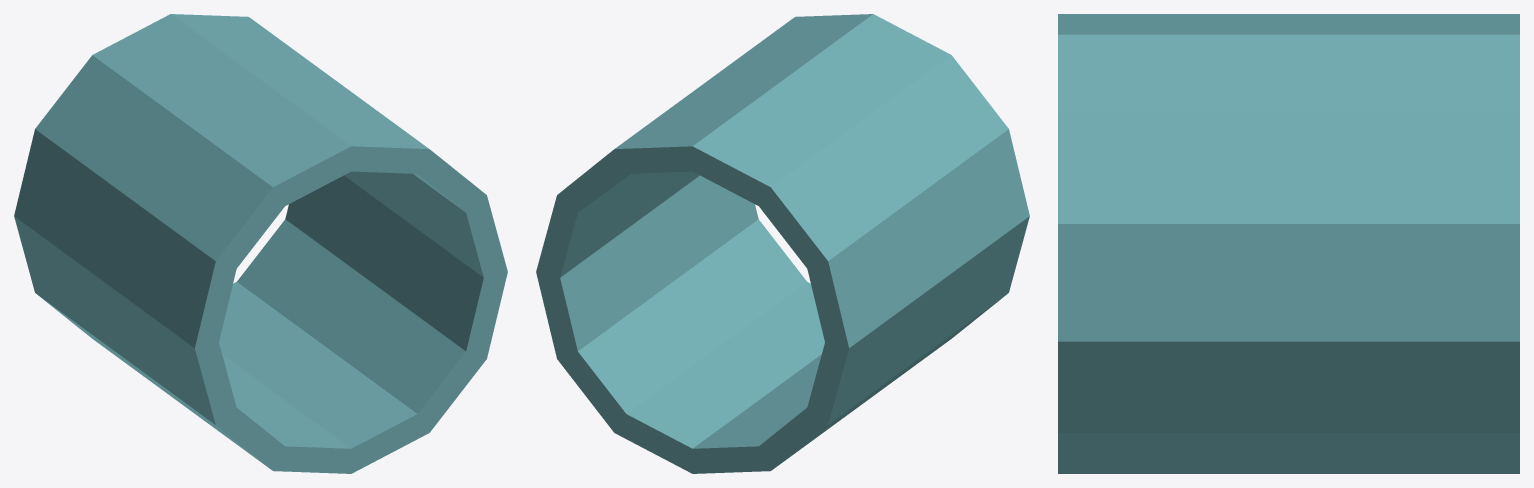
The picture shows the model from 3 angles, left to right: view 1: azimuth 30°, elevation 25°; view 2: azimuth 150°, elevation 25°; view 3: azimuth 270°, elevation 25°; orthographic projection. The views are drawn at different scales.
Parts seen in each view (by area): view 1: tube; view 2: tube; view 3: tube.
Part boxes in pixels (x1=…): tube: x1=14, y1=14, x2=507, y2=473; tube: x1=536, y1=14, x2=1029, y2=473; tube: x1=1058, y1=14, x2=1519, y2=473.
Bounding box in the file's own units: 1 × 1 × 1.
